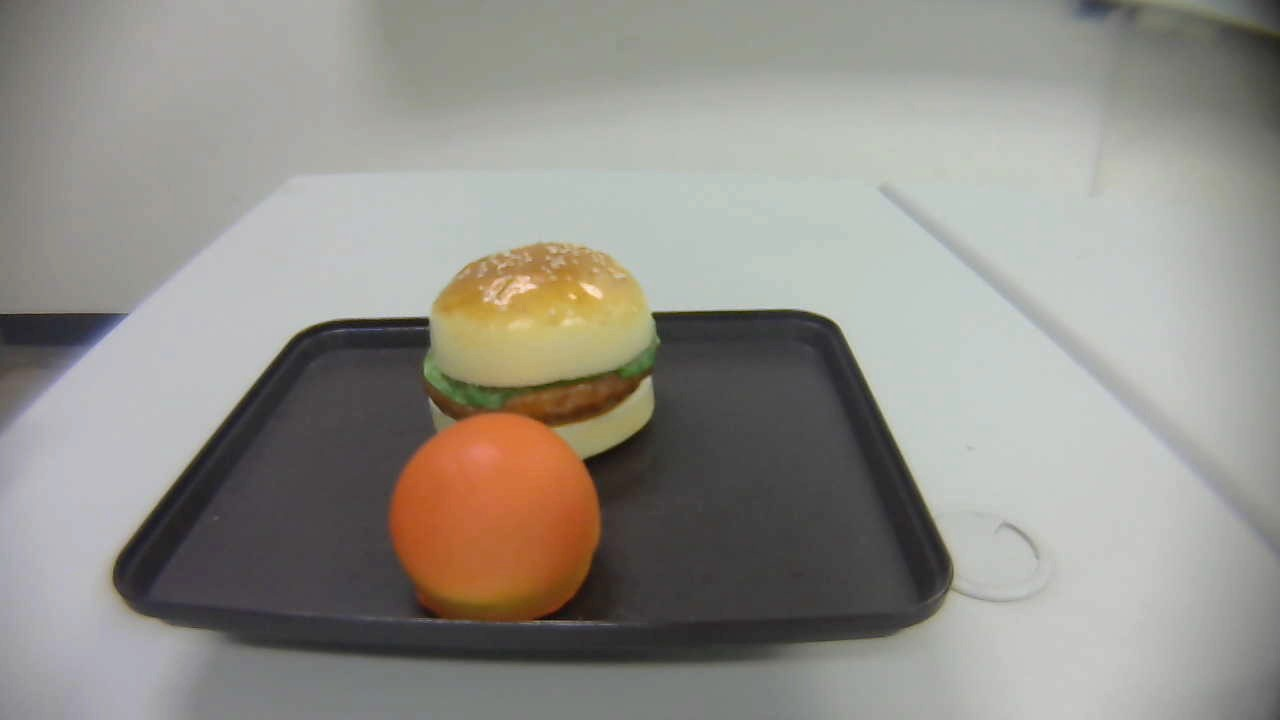bun: (389, 413, 602, 620)
hamburger: (424, 241, 658, 461)
